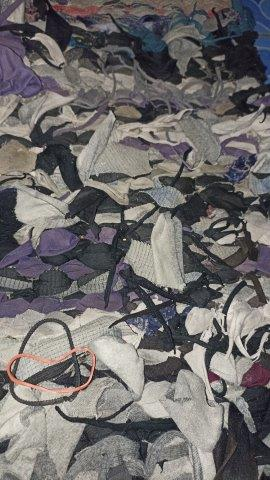karet: (7, 318, 96, 407)
